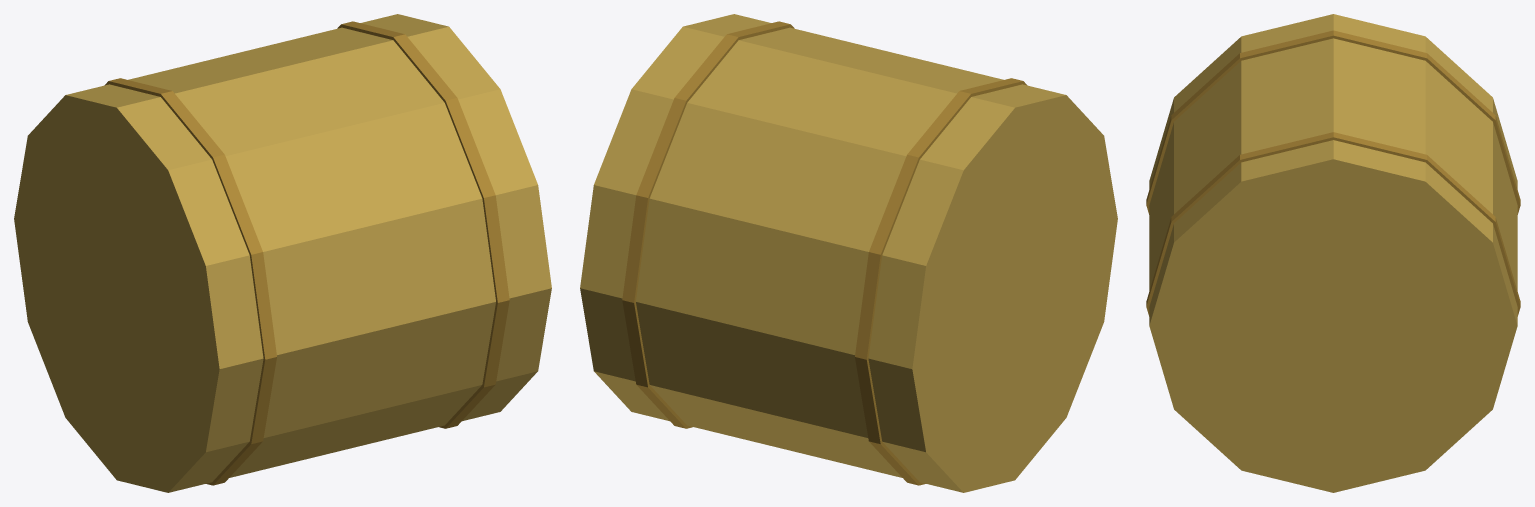
The model's file is c-hay-bale.glb.
3 views of the same model, side by side, from view 1: azimuth 30°, elevation 25°; view 2: azimuth 150°, elevation 25°; view 3: azimuth 270°, elevation 25° (orthographic). The views are drawn at different scales.
Parts seen in each view (by area): view 1: c-hay-bale; view 2: c-hay-bale; view 3: c-hay-bale.
Boxes of the visible parts, x1=… form: c-hay-bale: x1=14, y1=14, x2=551, y2=492; c-hay-bale: x1=580, y1=14, x2=1117, y2=492; c-hay-bale: x1=1146, y1=14, x2=1520, y2=492.
Bounding box in the file's own units: 0.56 × 0.61 × 0.61.
